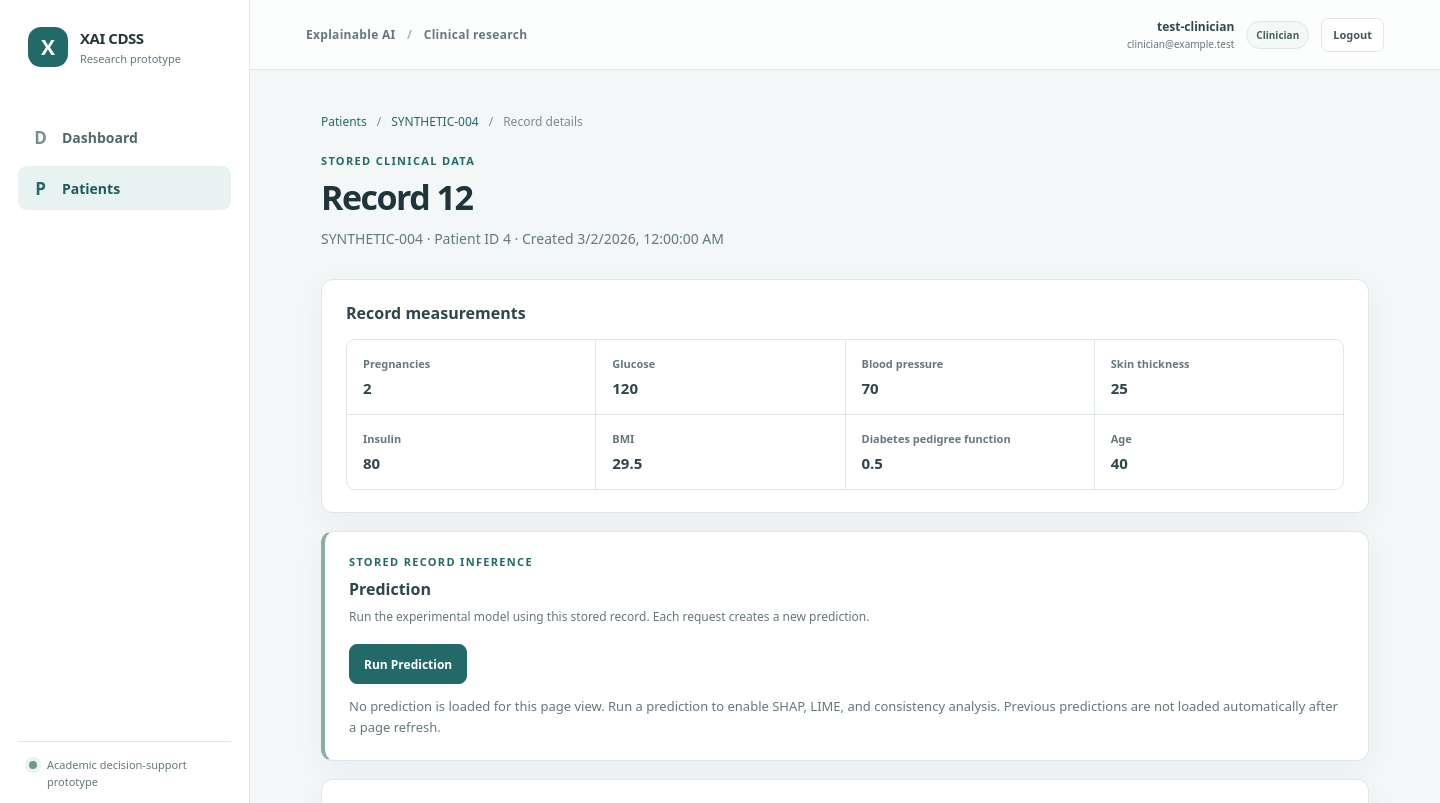
Test case: record prediction UI › uses the existing 401 session handling and redirects to login
Click the button "Run Prediction" at (408, 664), box [349, 644, 467, 684]
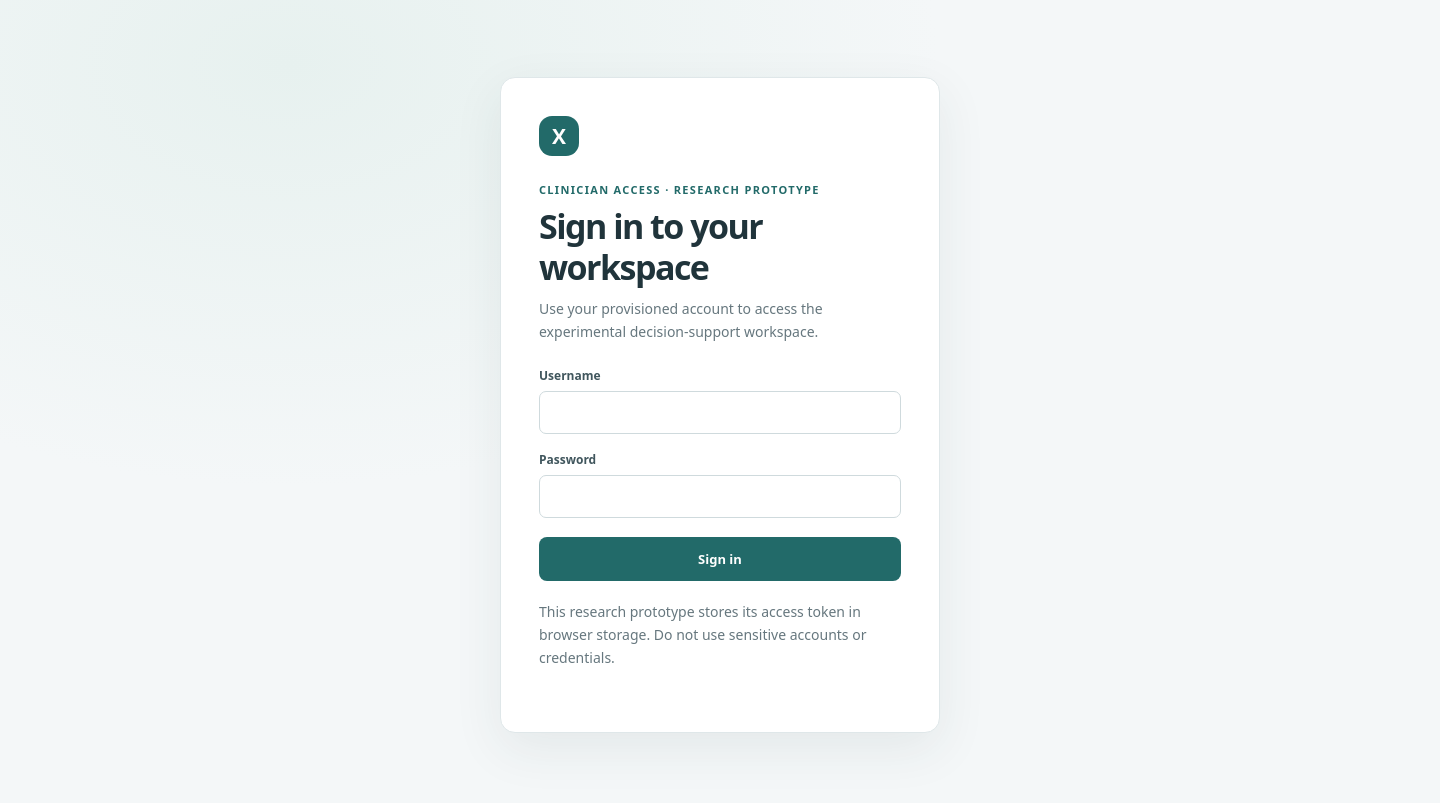
Expected: the heading "Sign in to your workspace" is shown, [539, 204, 762, 290]
